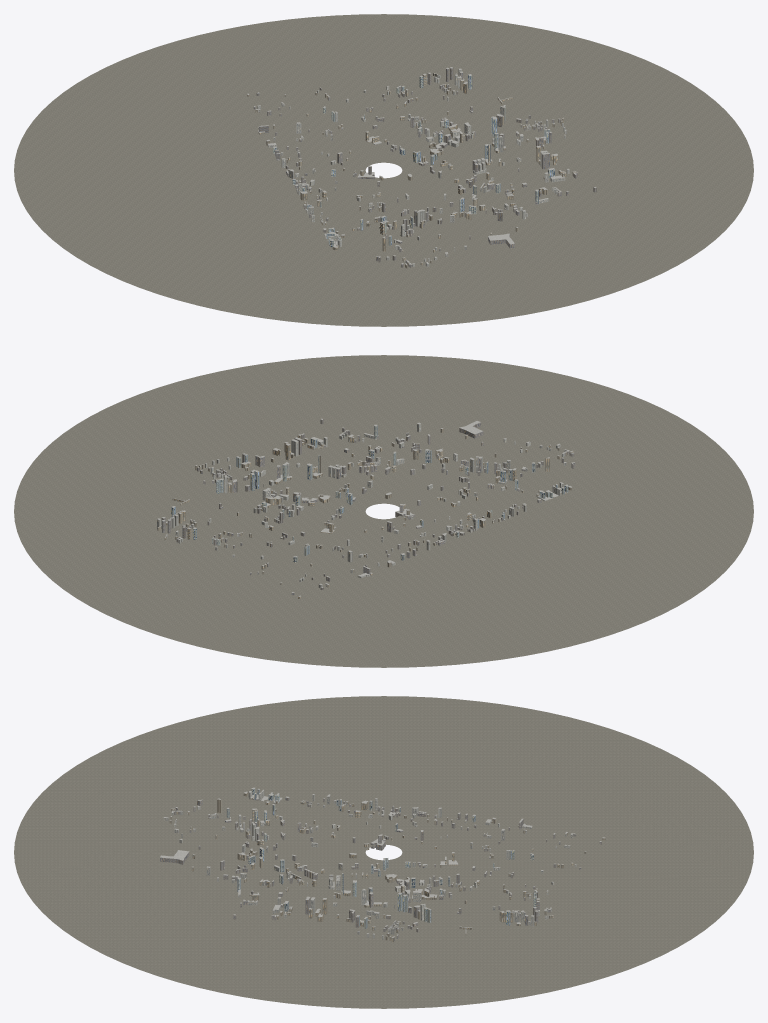
The model's file is far.glb.
The picture shows the model from 3 angles, top to bottom: view 1: azimuth 30°, elevation 25°; view 2: azimuth 150°, elevation 25°; view 3: azimuth 270°, elevation 25°; orthographic projection.
Parts seen in each view (by area): view 1: far_ground, far_roof, far_band, far_plaster, far_stone, far_glass; view 2: far_ground, far_band, far_roof, far_plaster, far_stone, far_glass; view 3: far_ground, far_roof, far_band, far_plaster, far_stone, far_glass.
Boxes of the visible parts, x1,y1,x2,y2 form: far_ground: (14,14,753,326); far_roof: (247,67,596,265); far_band: (253,68,596,267); far_plaster: (257,69,569,267); far_stone: (247,73,576,268); far_glass: (273,74,554,247); far_ground: (14,355,753,667); far_band: (161,419,575,595); far_roof: (157,418,574,596); far_plaster: (157,423,566,587); far_stone: (157,428,573,598); far_glass: (171,425,568,562); far_ground: (14,696,753,1008); far_roof: (160,787,605,937); far_band: (160,797,601,940); far_plaster: (163,790,576,939); far_stone: (169,792,605,942); far_glass: (226,788,536,928).
Size of the model in its own units: 8000 by 300 by 8000.
Materials: 6 (6 with a texture image).
